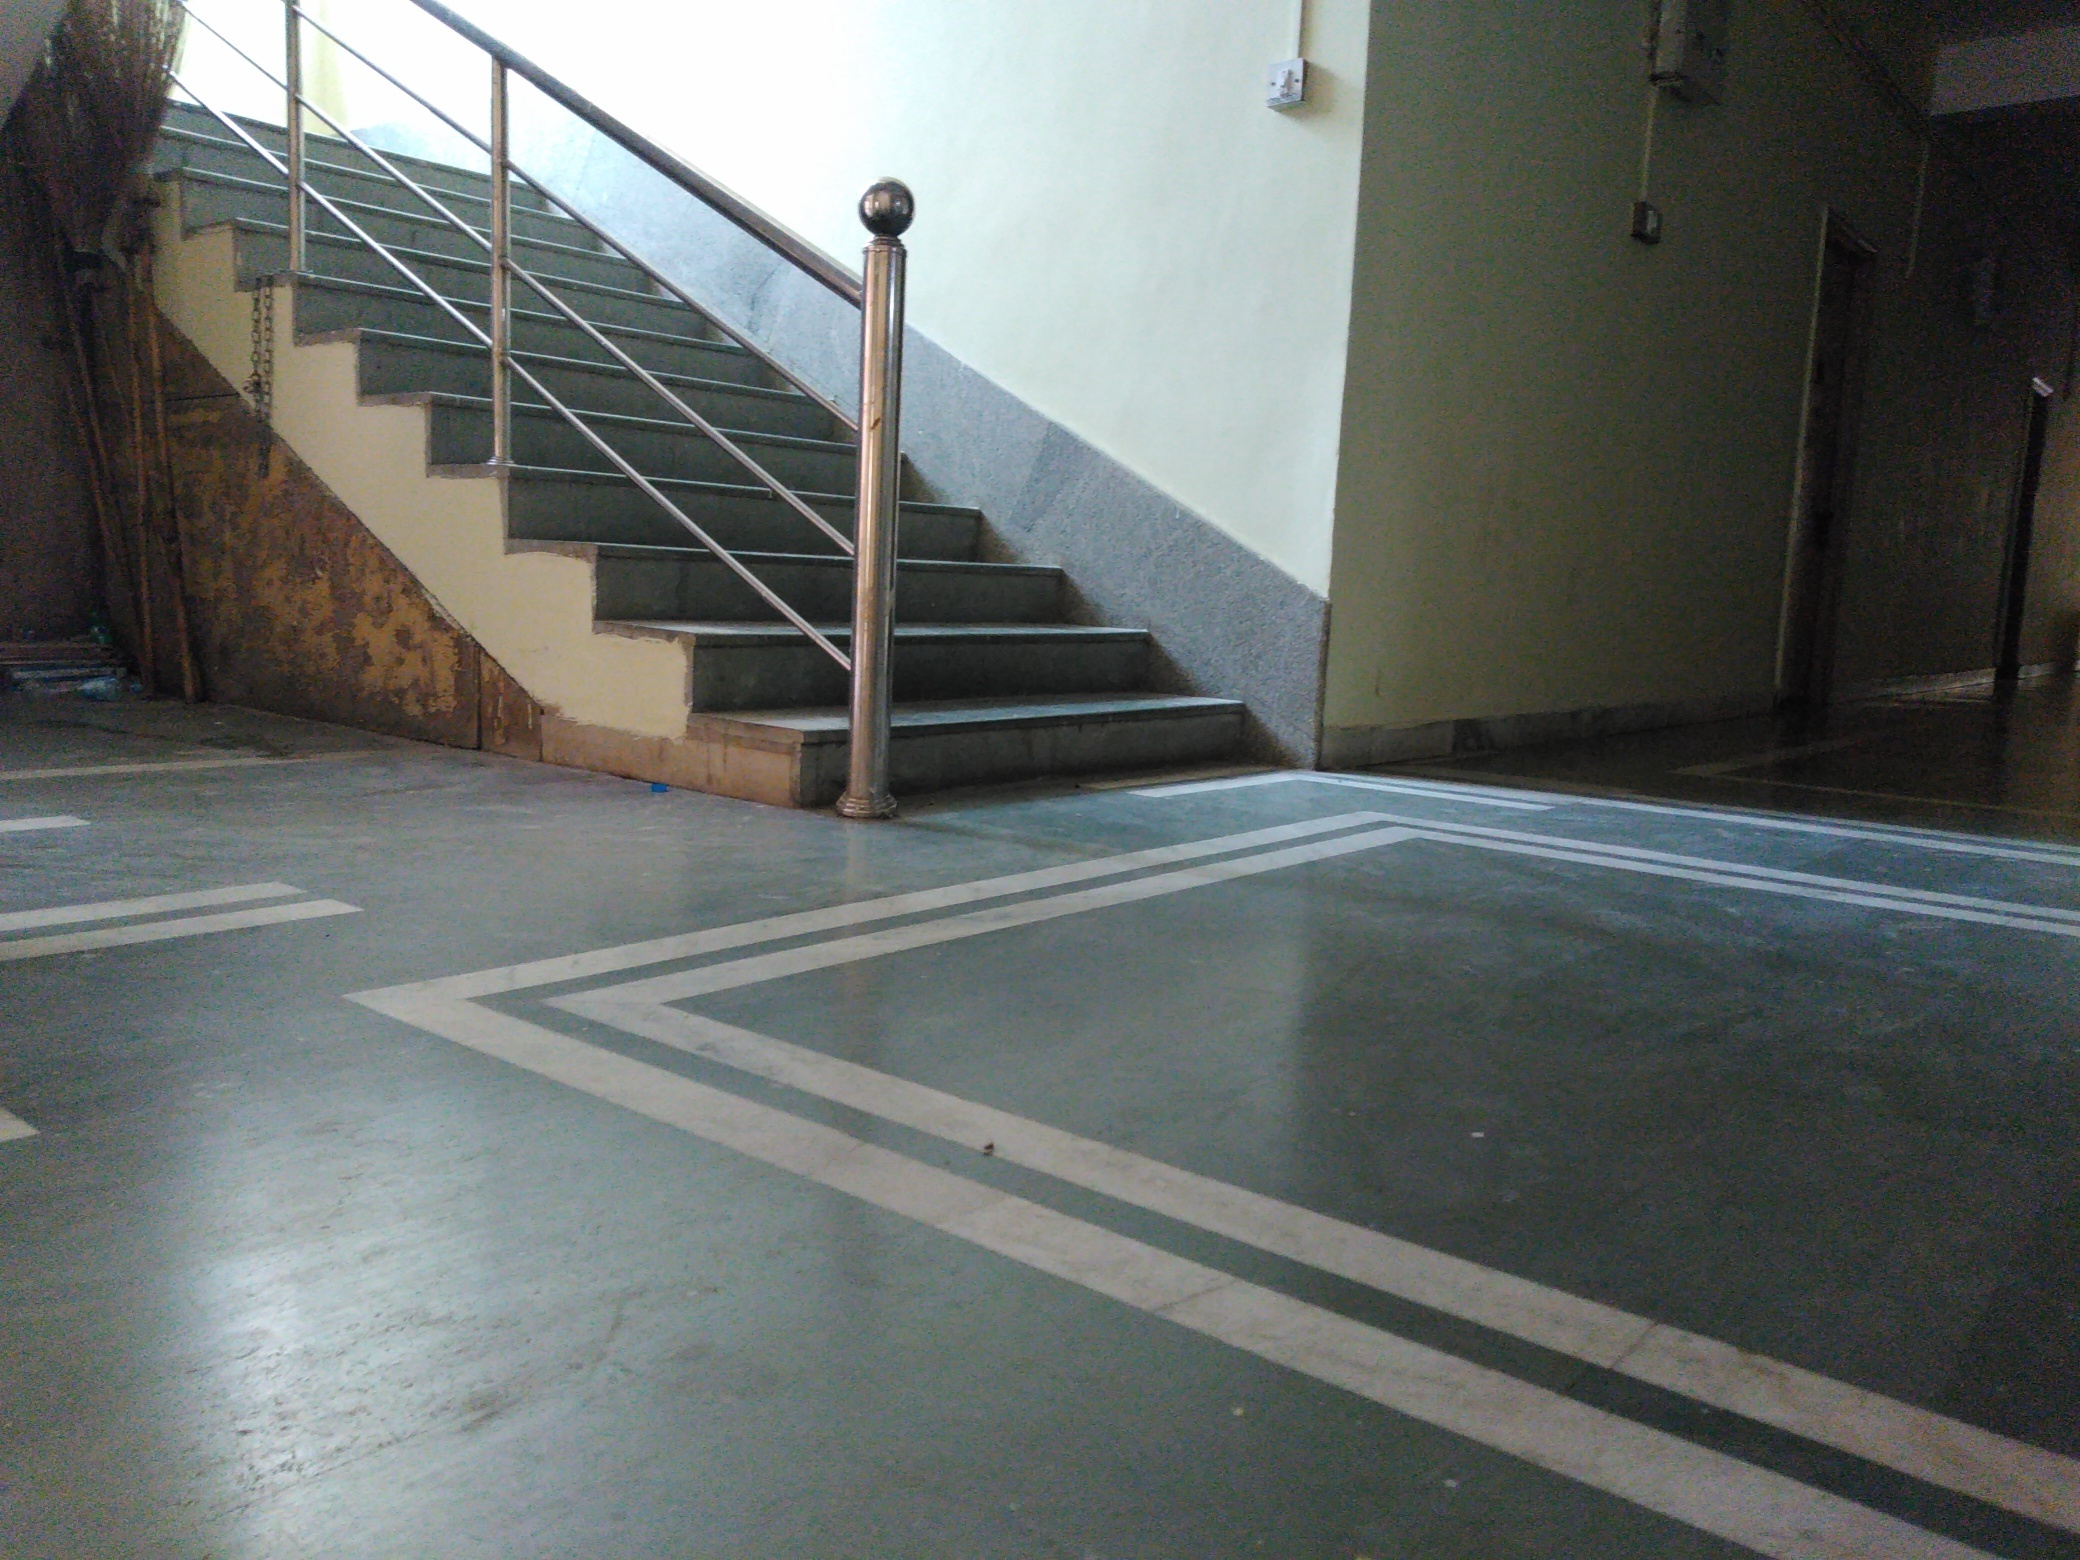stairs_up: (210, 126, 1304, 795)
